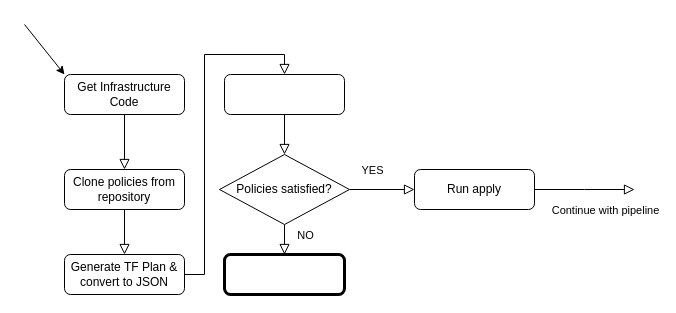
This 676x313 diagram has some shape labels left out. Here are the shapes that lost their labels. From the top down, the box of each, then its label:
(224, 74, 344, 114): Run opa exec on the JSON plan
(222, 252, 346, 296): Fail with error
